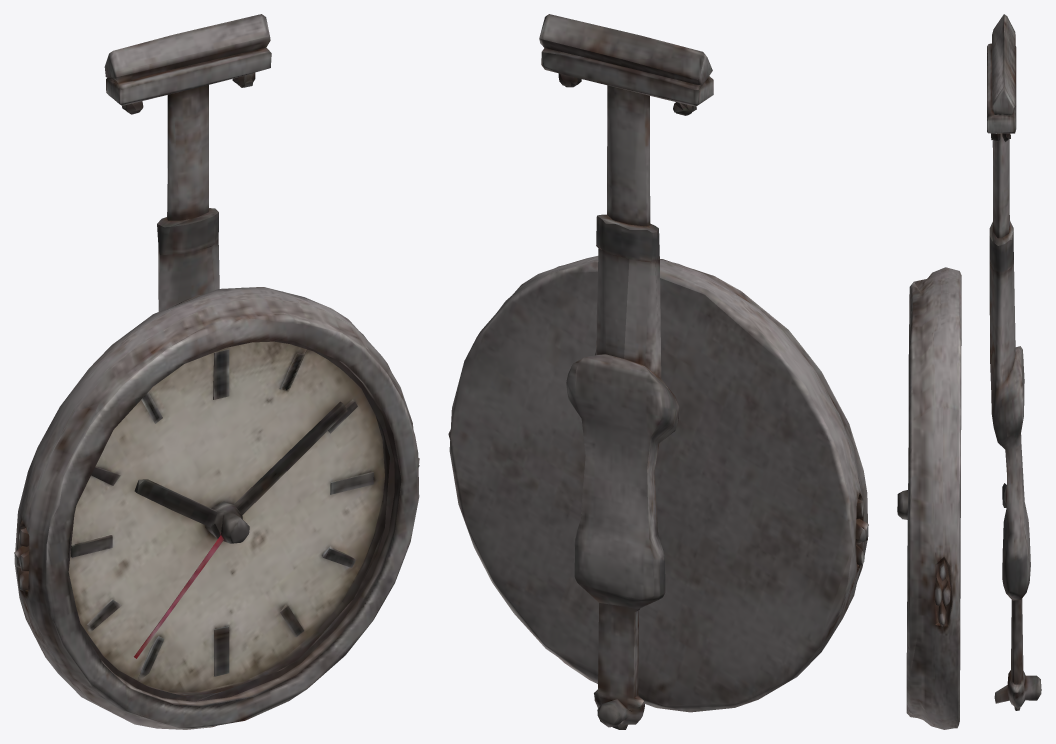
File: p7-platform-clock.glb
3 renders of one model, left to right at view 1: azimuth 30°, elevation 25°; view 2: azimuth 150°, elevation 25°; view 3: azimuth 270°, elevation 25°, orthographic. The views are drawn at different scales.
Visible parts, largest first — view 1: p7-platform-clock; view 2: p7-platform-clock; view 3: p7-platform-clock.
Boxes of the visible parts, bbox=[...] form: p7-platform-clock: bbox=[14, 14, 419, 729]; p7-platform-clock: bbox=[448, 14, 868, 729]; p7-platform-clock: bbox=[897, 14, 1041, 729].
Size of the model in its own units: 0.5 by 0.8 by 0.1576.
1 material, 1 textured.
